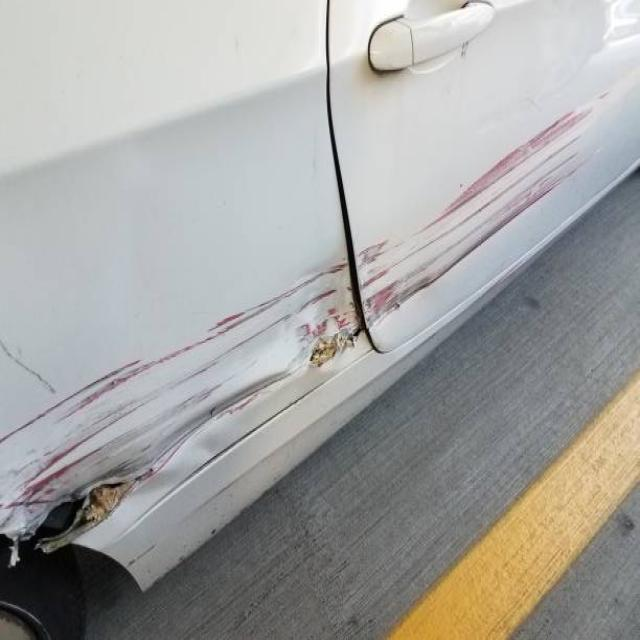scratch: (0, 292, 358, 533), (355, 72, 610, 342)
